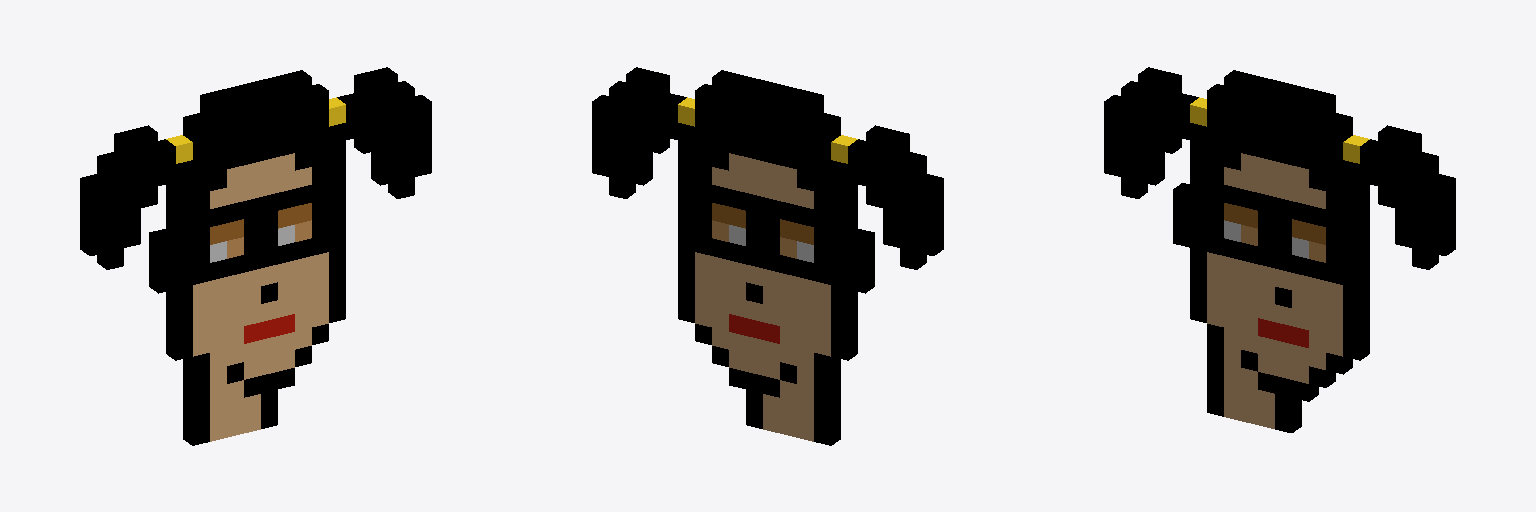
3 views of the same model, side by side, from view 1: azimuth 30°, elevation 25°; view 2: azimuth 150°, elevation 25°; view 3: azimuth 330°, elevation 25° (orthographic).
Visible parts, largest first — view 1: object 1; view 2: object 1; view 3: object 1.
Boxes of the visible parts, box(x1,y1,x2,y2) form: object 1: box(80, 67, 431, 445); object 1: box(592, 67, 943, 445); object 1: box(1104, 67, 1455, 432).
Size of the model in its own units: 2 by 1.9 by 0.1.
1 materials, 1 textured.